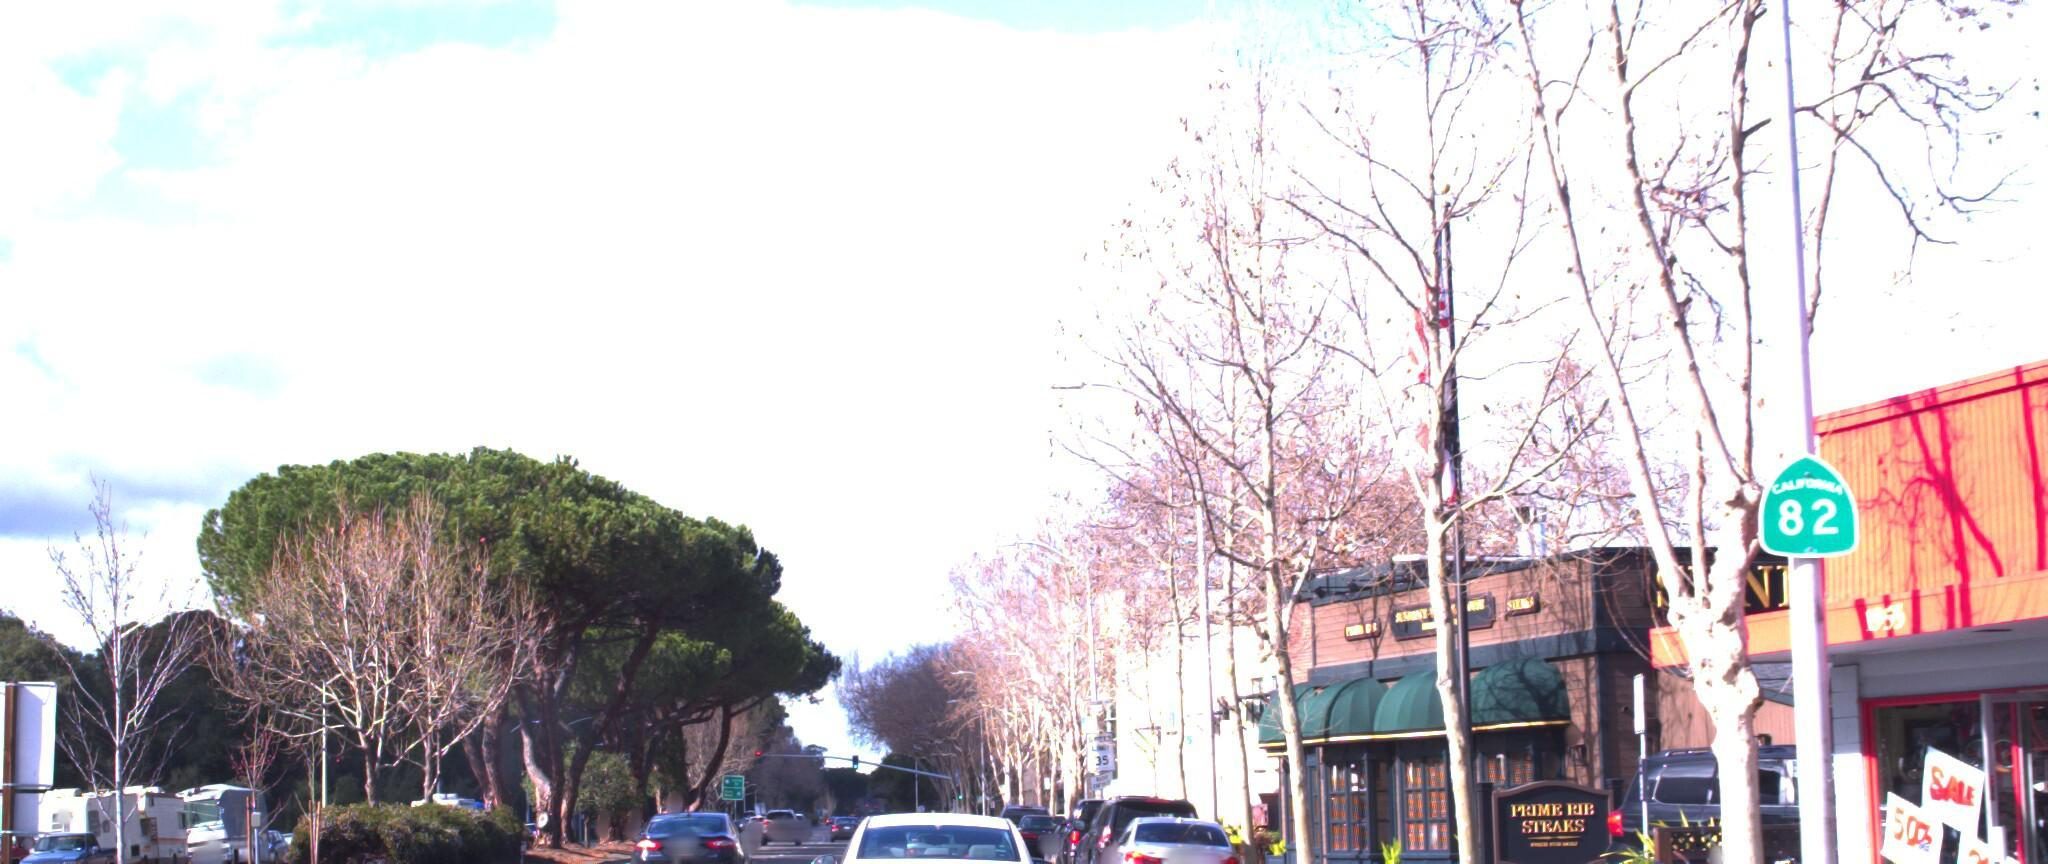bicycle: (1644, 848, 1731, 864)
car: (822, 780, 1061, 864), (1068, 779, 1221, 864), (1100, 797, 1256, 864), (628, 784, 755, 864)
